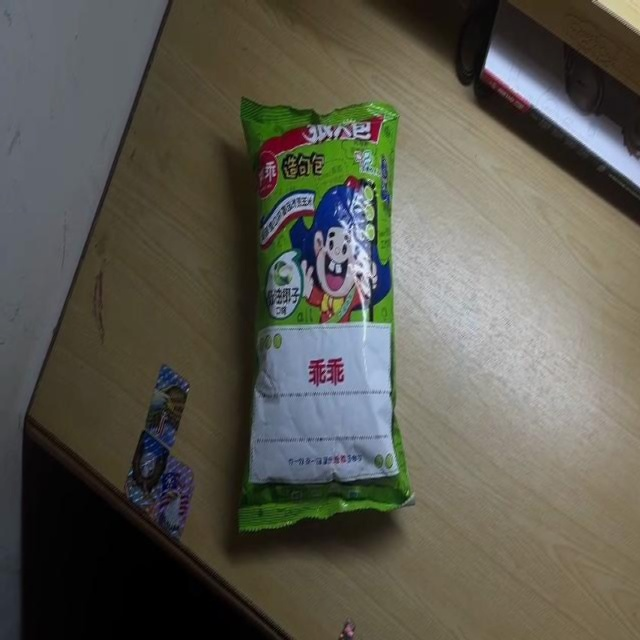Good-Luck: (238, 96, 415, 536)
